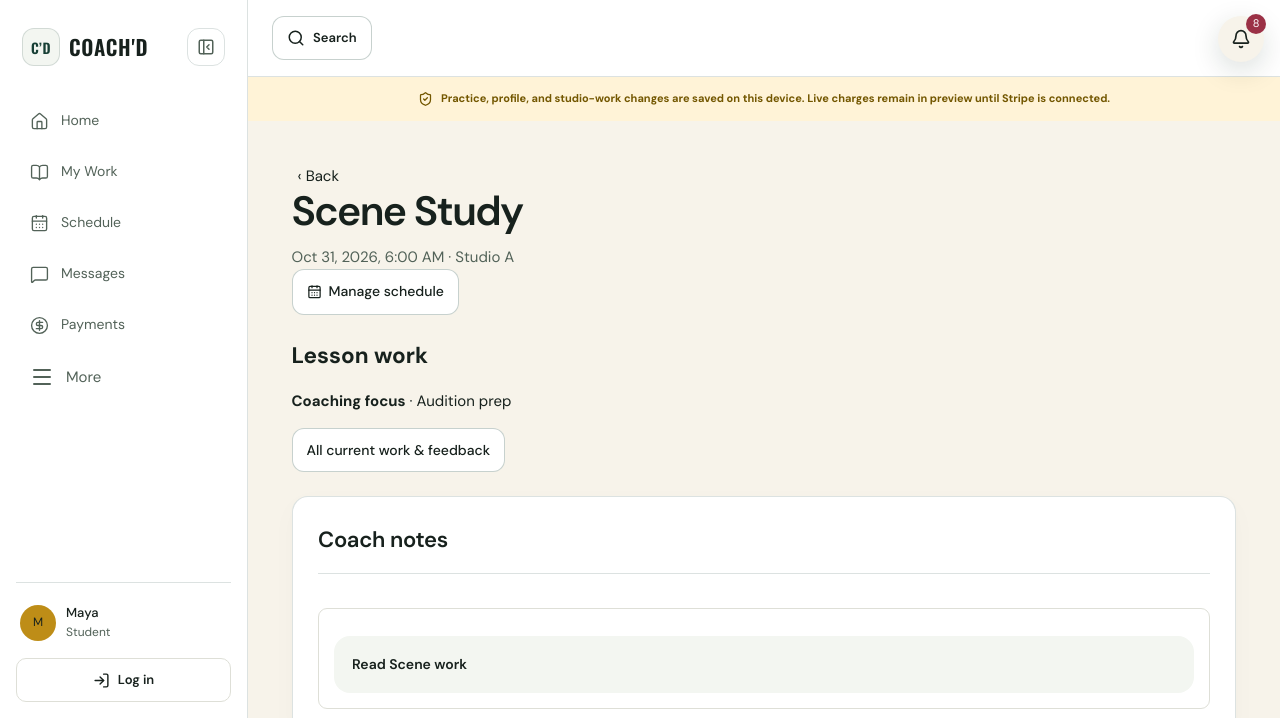
Test: content disclosure and decision context › expands a complete sanitized lesson note and keeps its title visible
Click the heading "Read Scene work" at (371, 664), box [334,636,1194,693]
(page scrolled)
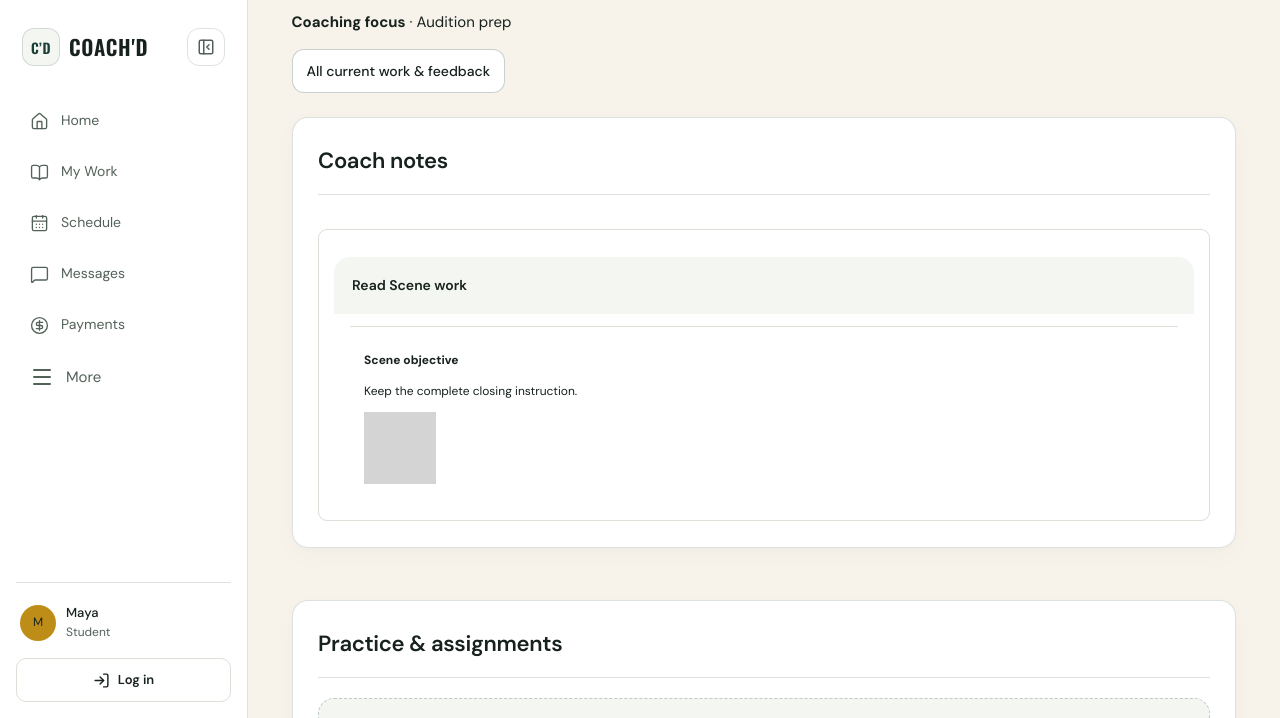
Expected: the text "Keep the complete closing instruction." is shown, [364,383,577,399]
Expected: the text "Scene objective" is shown, [364,352,458,368]
